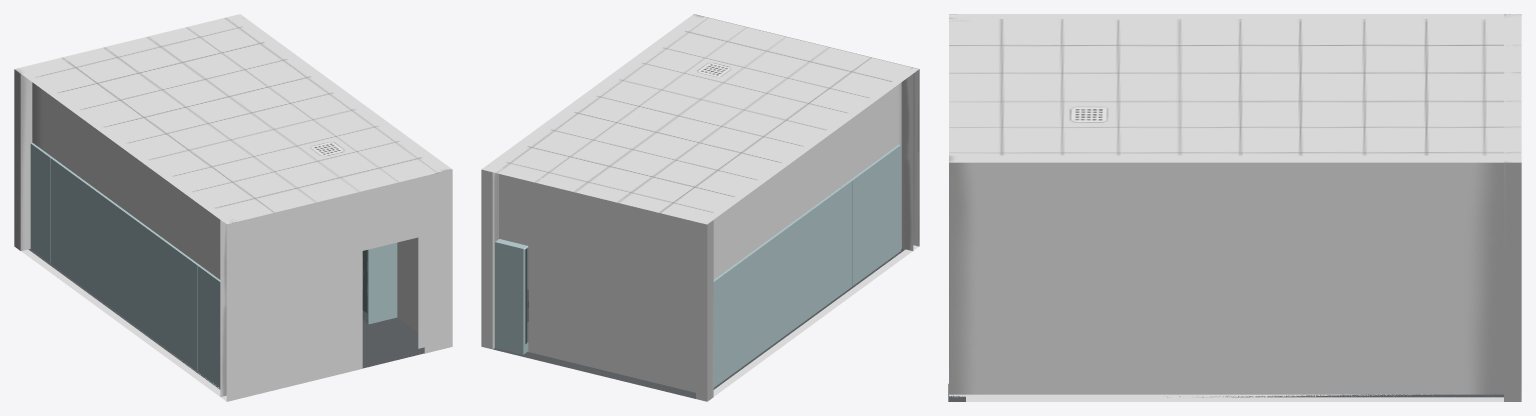
File: BgMD_Yoshinuma_LockerRoom_0101ver01.fbx
3 renders of one model, left to right at view 1: azimuth 30°, elevation 25°; view 2: azimuth 150°, elevation 25°; view 3: azimuth 270°, elevation 25°, orthographic. The views are drawn at different scales.
Visible parts, largest first — view 1: tenjoutoyuka1; view 2: tenjoutoyuka1; view 3: tenjoutoyuka1.
Boxes of the visible parts, box(x1,y1,x2,y2) form: tenjoutoyuka1: box(14, 14, 452, 401); tenjoutoyuka1: box(481, 14, 919, 401); tenjoutoyuka1: box(948, 14, 1521, 401).
Bounding box in the file's own units: 400 × 300 × 651.
1 material, 1 textured.
